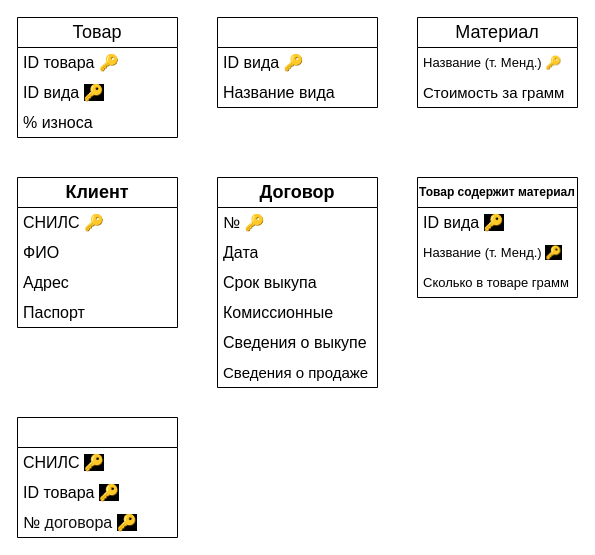
Some shapes in this 595 by 555 pixel diagram are drawn without their labels. The shapes that lost their labels are listed below. From the top down, each one's box as (x1, y1, x2, y2) in pixels, then its label:
(216, 16, 378, 108): Вид товара
(16, 416, 178, 538): Заключение договора
